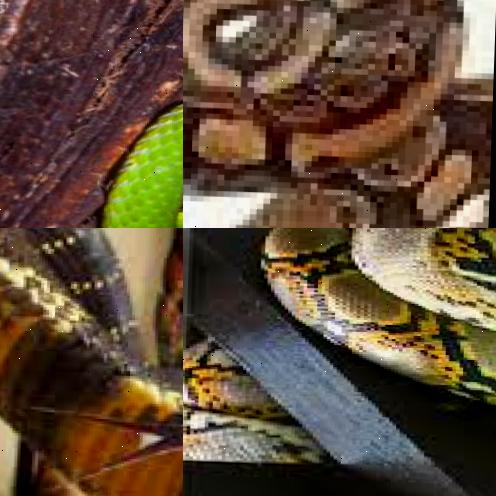snake: (183, 0, 496, 228), (0, 228, 183, 496), (0, 0, 183, 228), (339, 228, 496, 482)
